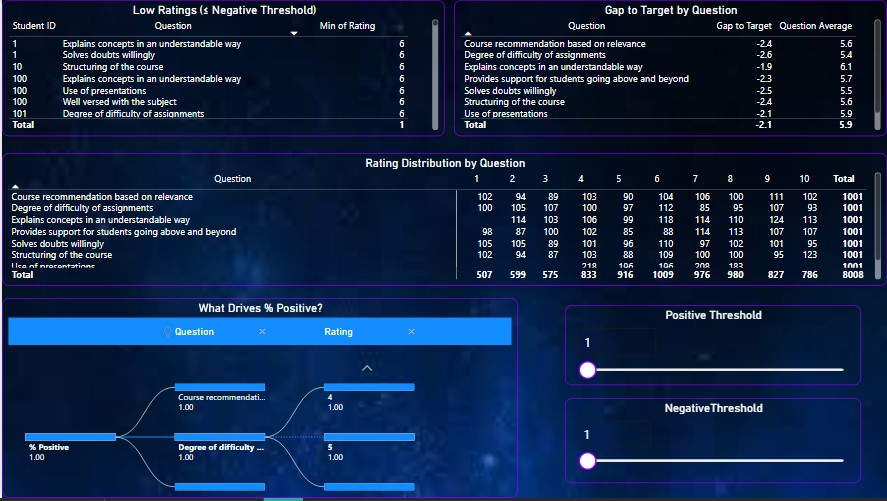

This screenshot's page, from the dashboard's own definition file:
{"tool":"powerbi","page":{"name":"Page Diagnostic View","canvas":[1280,720],"ordinal":1},"visuals":[{"type":"slicer","title":"NegativeThreshold","fields":{"Values":["Negative Threshold.Negative Threshold"]},"box":[814,575.4,428,122.9],"z":0},{"type":"tableEx","title":"Gap to Target by Question","fields":{"Values":["Feedback.Question","measure.Gap to Target","measure.Question Average"]},"box":[653.5,0,626,196.6],"z":1000},{"type":"pivotTable","title":"Rating Distribution by Question","fields":{"Rows":["Feedback.Question"],"Columns":["Feedback.Rating"],"Values":["CountNonNull(Feedback.Rating)"]},"box":[0,221.2,1279.5,192.3],"z":1001},{"type":"tableEx","title":"Low Ratings (≤ Negative Threshold)","fields":{"Values":["Feedback.Student ID","Feedback.Question","Min(Feedback.Rating)"]},"box":[0,0,640.5,196.6],"z":1002},{"type":"decompositionTreeVisual","title":"What Drives % Positive?","fields":{"ExplainBy":["Feedback.Question","Feedback.Rating"],"Analyze":["measure.% Positive"]},"box":[0,430.8,746,289.2],"z":1003},{"type":"slicer","title":"Positive Threshold","fields":{"Values":["Positive Threshold.Positive Threshold"]},"box":[814,441,428,115.7],"z":1004}]}

Visuals, with their boxes in screenshot pixels (x1, y1, x2, y2), scaled from the page's 1280x720 canvas onto the 887x501 screenshot:
"NegativeThreshold" slicer: <bbox>564, 400, 861, 486</bbox>
"Gap to Target by Question" tableEx: <bbox>453, 0, 886, 137</bbox>
"Rating Distribution by Question" pivotTable: <bbox>0, 154, 886, 288</bbox>
"Low Ratings (≤ Negative Threshold)" tableEx: <bbox>0, 0, 444, 137</bbox>
"What Drives % Positive?" decompositionTreeVisual: <bbox>0, 300, 517, 500</bbox>
"Positive Threshold" slicer: <bbox>564, 307, 861, 387</bbox>
